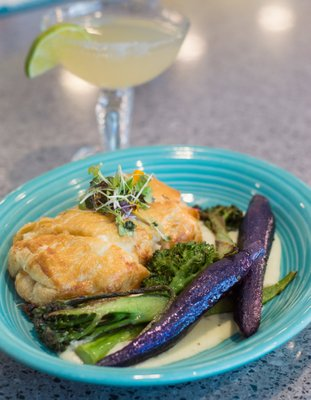curry: (143, 242, 220, 298)
